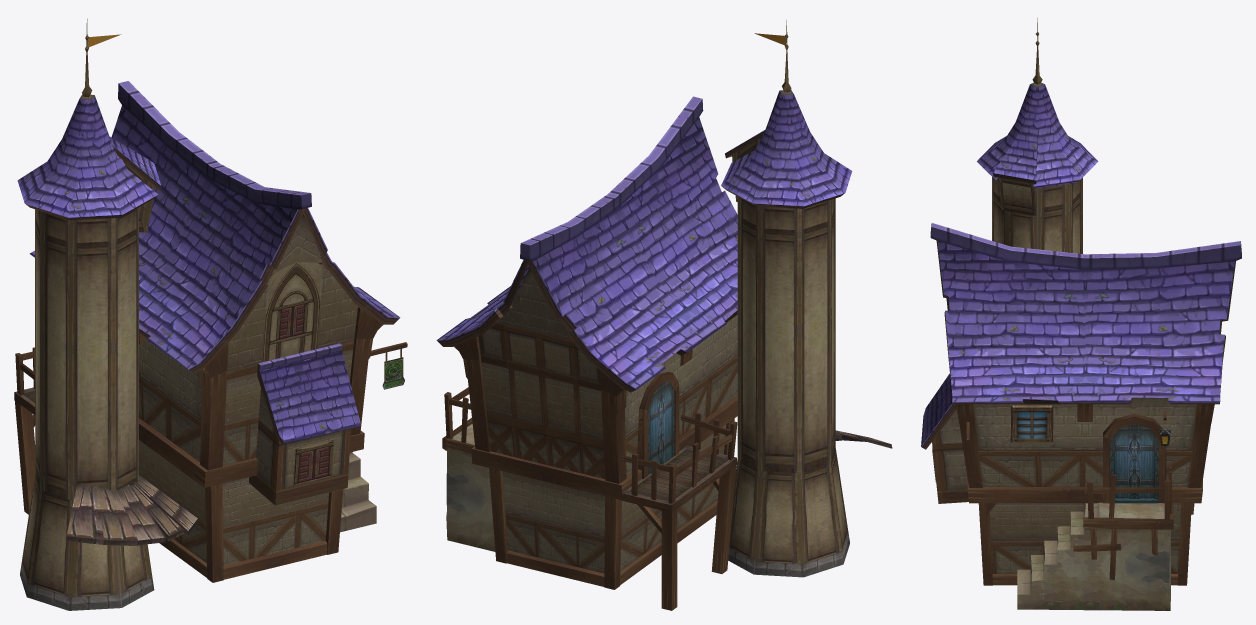
File: zhucheng_wuzi03.FBX
The picture shows the model from 3 angles, left to right: view 1: azimuth 30°, elevation 25°; view 2: azimuth 150°, elevation 25°; view 3: azimuth 270°, elevation 25°; orthographic projection. The views are drawn at different scales.
Parts seen in each view (by area): view 1: zhucheng_wuzi03; view 2: zhucheng_wuzi03; view 3: zhucheng_wuzi03.
Boxes of the visible parts, x1,y1,x2,y2 form: zhucheng_wuzi03: [14, 18, 407, 610]; zhucheng_wuzi03: [436, 20, 892, 610]; zhucheng_wuzi03: [921, 18, 1241, 610].
Bounding box in the file's own units: 307 × 287 × 477.
